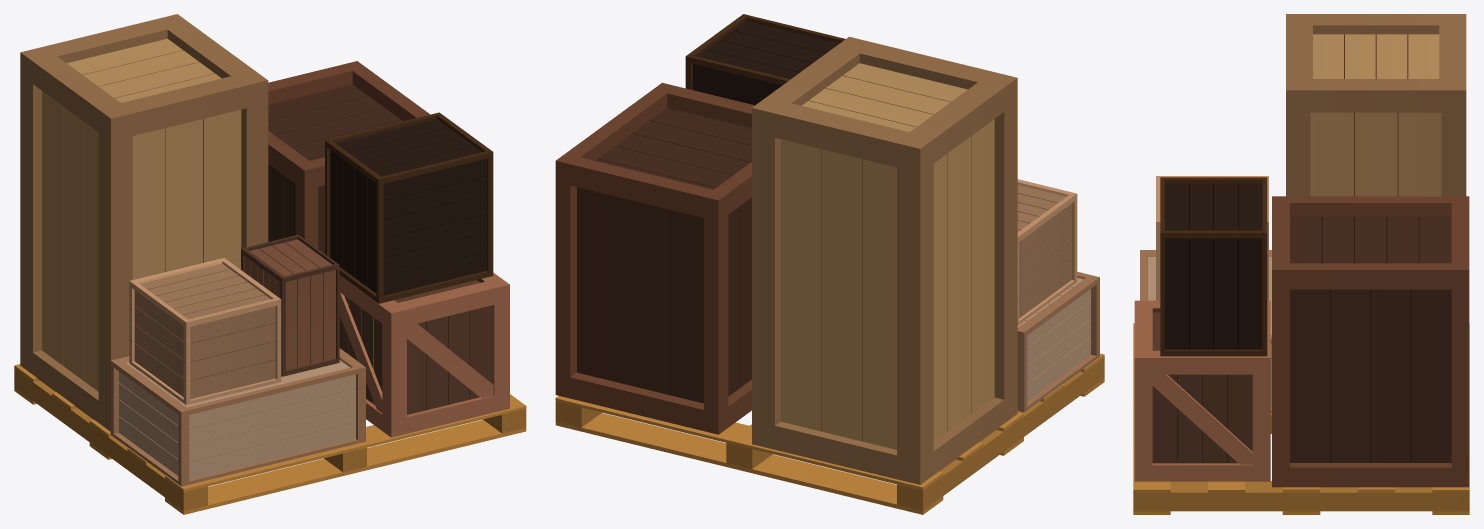
File: Pallet Of Boxes #1.fbx
3 renders of one model, left to right at view 1: azimuth 30°, elevation 25°; view 2: azimuth 150°, elevation 25°; view 3: azimuth 270°, elevation 25°, orthographic. The views are drawn at different scales.
Visible parts, largest first — view 1: Pallet Of Boxes #1; view 2: Pallet Of Boxes #1; view 3: Pallet Of Boxes #1.
Boxes of the visible parts, x1,y1,x2,y2 form: Pallet Of Boxes #1: (14,14,526,514); Pallet Of Boxes #1: (555,14,1104,514); Pallet Of Boxes #1: (1133,14,1469,514).
Bounding box in the file's own units: 706 × 639 × 747.
1 material, 1 textured.
